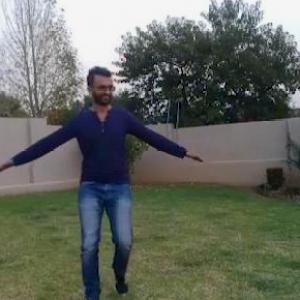land: (1, 37, 232, 299)
